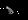person: (5, 5, 16, 19)
